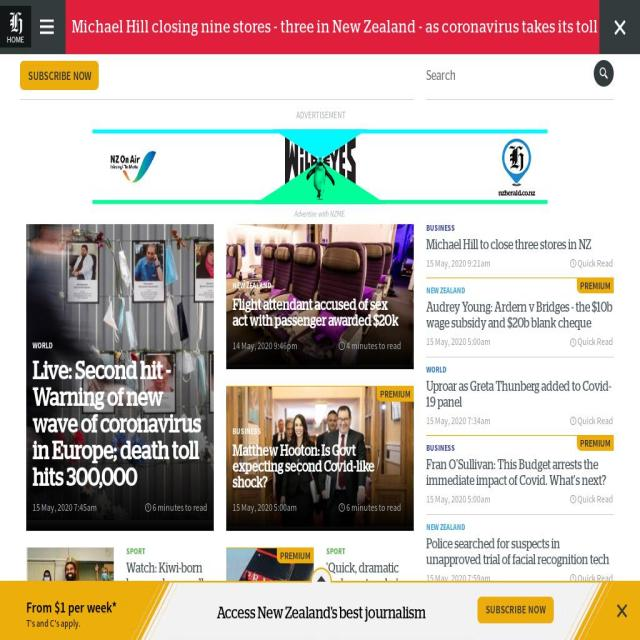button: (320, 0, 640, 45), (66, 14, 598, 40), (75, 0, 187, 54), (20, 61, 99, 90), (478, 597, 554, 623), (0, 6, 31, 47)
field: (426, 61, 614, 100), (593, 59, 614, 87)
heading: (32, 359, 200, 491), (1, 604, 640, 624), (232, 444, 374, 491), (426, 301, 613, 331), (426, 379, 612, 409), (426, 536, 610, 566), (426, 458, 607, 488), (326, 562, 413, 622), (232, 298, 398, 329), (126, 562, 211, 622), (426, 615, 601, 640), (426, 238, 592, 252), (26, 598, 117, 616), (8, 13, 22, 34)
iframe: (92, 129, 548, 204)
image: (27, 224, 215, 520), (225, 224, 414, 365), (225, 386, 414, 526), (225, 548, 314, 640), (26, 547, 113, 640), (599, 0, 640, 54), (602, 585, 640, 637), (75, 17, 187, 34), (308, 582, 334, 640), (144, 503, 152, 512), (338, 342, 345, 351), (338, 503, 345, 512), (570, 338, 577, 347), (570, 416, 577, 425), (570, 495, 577, 504), (191, 630, 198, 639), (570, 260, 577, 268), (570, 574, 577, 582)
link: (294, 208, 346, 220)
text: (0, 0, 66, 54), (26, 616, 117, 631), (32, 6, 62, 47), (125, 627, 203, 640), (426, 413, 492, 427), (426, 492, 492, 506), (426, 335, 492, 348), (426, 571, 492, 584), (232, 339, 297, 352), (125, 627, 190, 640), (325, 627, 390, 640), (551, 12, 609, 26), (426, 257, 492, 269), (32, 501, 97, 513), (232, 501, 297, 513), (551, 27, 609, 40), (344, 339, 402, 352), (150, 501, 208, 513), (344, 501, 402, 513), (296, 109, 346, 122), (576, 413, 614, 427), (576, 492, 614, 506), (576, 335, 614, 348), (576, 571, 614, 584), (426, 285, 466, 297), (576, 257, 614, 269), (426, 521, 466, 532), (232, 280, 271, 291), (426, 222, 456, 234), (426, 599, 456, 611), (426, 443, 456, 454), (232, 426, 261, 436), (426, 363, 447, 375), (32, 340, 52, 351), (126, 546, 146, 556), (326, 546, 346, 556)
